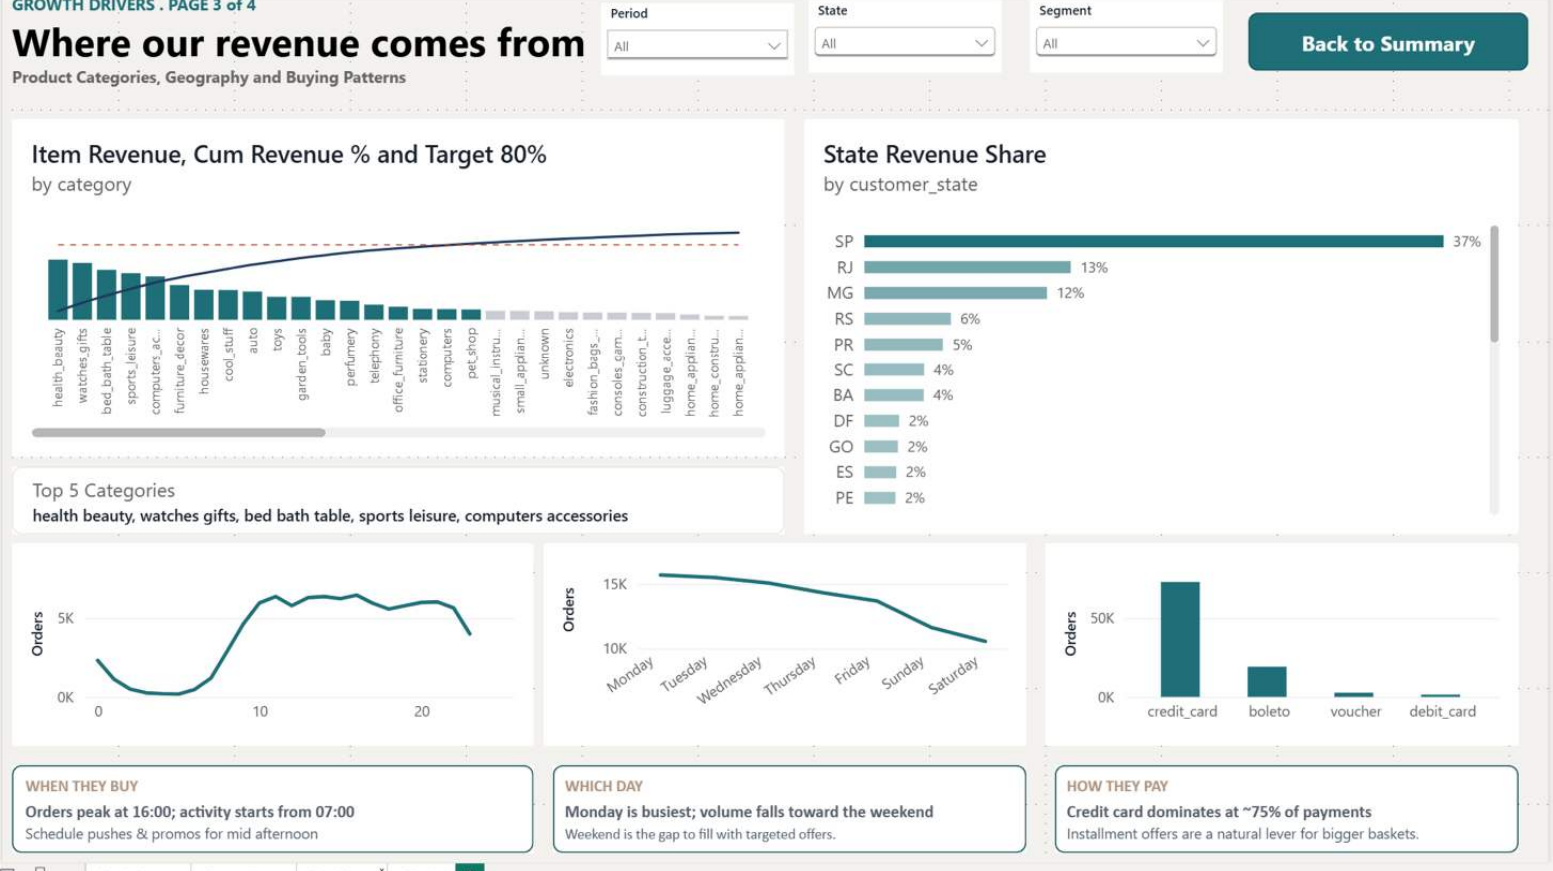

The page's visual inventory and layout, read from the dashboard file:
{"tool":"powerbi","page":{"name":"Growth Drivers","canvas":[1280,720],"ordinal":2},"visuals":[{"type":"textbox","box":[8,0,528,96],"z":0},{"type":"lineClusteredColumnComboChart","fields":{"Category":["fact_order_items.category"],"Y":["_Measures.Item Revenue"],"Y2":["_Measures.Cum Revenue %","_Measures.Target 80%"]},"box":[8,104,640,280],"z":1000},{"type":"shape","box":[1032,16,232,48],"z":2000},{"type":"clusteredBarChart","fields":{"Category":["fact_orders.customer_state"],"Y":["_Measures.State Revenue Share"]},"box":[664,104,592,344],"z":3000},{"type":"cardVisual","fields":{"Data":["_Measures.Top 5 Categories"]},"box":[8,392,640,56],"z":4000},{"type":"slicer","title":"Period:","fields":{"Values":["dim_date.Year"]},"box":[496,8,160,60],"z":5000},{"type":"slicer","title":"State:","fields":{"Values":["fact_orders.customer_state"]},"box":[667.4,5.7,160,60],"z":6000},{"type":"slicer","title":"Segment:","fields":{"Values":["dim_customer.Segment"]},"box":[851.4,5.7,160,60],"z":7000},{"type":"group","id":"g1","title":"Group 1","box":[872,640,384,72],"z":8000},{"type":"group","id":"g2","title":"Group 2","box":[456,640,384,72],"z":9000},{"type":"group","id":"g3","title":"Group 2","box":[8,640,432,72],"z":10000},{"type":"lineChart","fields":{"Category":["fact_orders.order_hour"],"Y":["_Measures.Orders"]},"box":[8,456,432,168],"z":11000},{"type":"lineChart","fields":{"Category":["fact_orders.order_weekday"],"Y":["_Measures.Orders"]},"box":[448,456,400,168],"z":12000},{"type":"columnChart","fields":{"Category":["fact_orders.payment_type"],"Y":["_Measures.Orders"]},"box":[864,456,392,168],"z":13000},{"type":"shape","box":[8,640,432,72],"z":15000,"group":"g3"},{"type":"shape","box":[456,640,392,72],"z":15000,"group":"g2"},{"type":"textbox","box":[18.8,647.2,162,21.6],"z":16000,"group":"g3"},{"type":"textbox","box":[465.8,647.2,147,21.6],"z":16000,"group":"g2"},{"type":"textbox","box":[18.8,668.8,410.4,36],"z":17000,"group":"g3"},{"type":"textbox","box":[465.8,668.8,372.4,36],"z":17000,"group":"g2"},{"type":"shape","box":[872,640,384,72],"z":18000,"group":"g1"},{"type":"textbox","box":[881.6,647.2,144,21.6],"z":19000,"group":"g1"},{"type":"textbox","box":[881.6,668.8,364.8,36],"z":20000,"group":"g1"}]}

Visuals, with their boxes in screenshot pixels (x1, y1, x2, y2), scaled from the page's 1280x720 canvas onto the 1553x871 screenshot:
textbox: <bbox>10, 0, 650, 116</bbox>
lineClusteredColumnComboChart - fact_order_items.category x _Measures.Item Revenue: <bbox>10, 126, 786, 465</bbox>
shape: <bbox>1252, 19, 1534, 77</bbox>
clusteredBarChart - fact_orders.customer_state x _Measures.State Revenue Share: <bbox>806, 126, 1524, 542</bbox>
cardVisual - _Measures.Top 5 Categories: <bbox>10, 474, 786, 542</bbox>
"Period:" slicer: <bbox>602, 10, 796, 82</bbox>
"State:" slicer: <bbox>810, 7, 1004, 79</bbox>
"Segment:" slicer: <bbox>1033, 7, 1227, 79</bbox>
"Group 1" group: <bbox>1058, 774, 1524, 861</bbox>
"Group 2" group: <bbox>553, 774, 1019, 861</bbox>
"Group 2" group: <bbox>10, 774, 534, 861</bbox>
lineChart - fact_orders.order_hour x _Measures.Orders: <bbox>10, 552, 534, 755</bbox>
lineChart - fact_orders.order_weekday x _Measures.Orders: <bbox>544, 552, 1029, 755</bbox>
columnChart - fact_orders.payment_type x _Measures.Orders: <bbox>1048, 552, 1524, 755</bbox>
shape: <bbox>10, 774, 534, 861</bbox>
shape: <bbox>553, 774, 1029, 861</bbox>
textbox: <bbox>23, 783, 219, 809</bbox>
textbox: <bbox>565, 783, 743, 809</bbox>
textbox: <bbox>23, 809, 521, 853</bbox>
textbox: <bbox>565, 809, 1017, 853</bbox>
shape: <bbox>1058, 774, 1524, 861</bbox>
textbox: <bbox>1070, 783, 1244, 809</bbox>
textbox: <bbox>1070, 809, 1512, 853</bbox>
